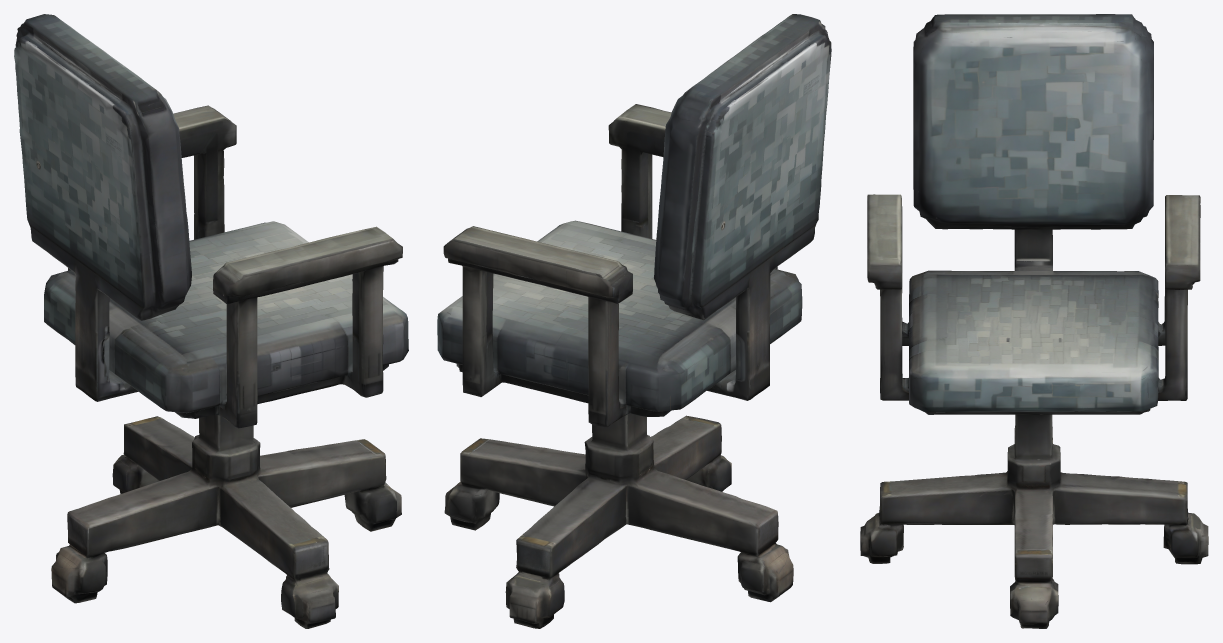
File: Meshy_AI_Pixel_Armchair_0124090835_texture.glb
3 renders of one model, left to right at view 1: azimuth 30°, elevation 25°; view 2: azimuth 150°, elevation 25°; view 3: azimuth 270°, elevation 25°, orthographic. The views are drawn at different scales.
Bounding box in the file's own units: 1.32 × 2.01 × 1.32.
1 material, 1 textured.
